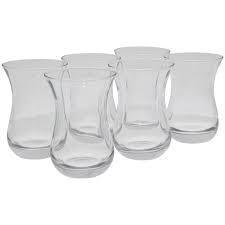glass: (35, 62, 127, 183), (0, 47, 69, 173), (163, 50, 224, 154)
